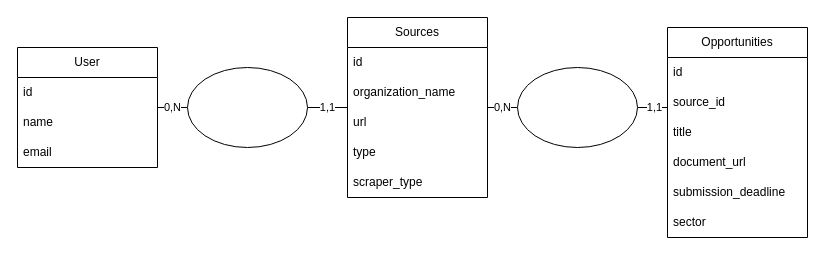
The diagram is 825 pixels wide and 255 high, and some of its shapes have lost their labels. The shapes that lost their labels are listed below. From the top down, each one's centre as x and y in pixels, then its label:
At point 247,107: "ajouter".
At point 577,107: "contient".
